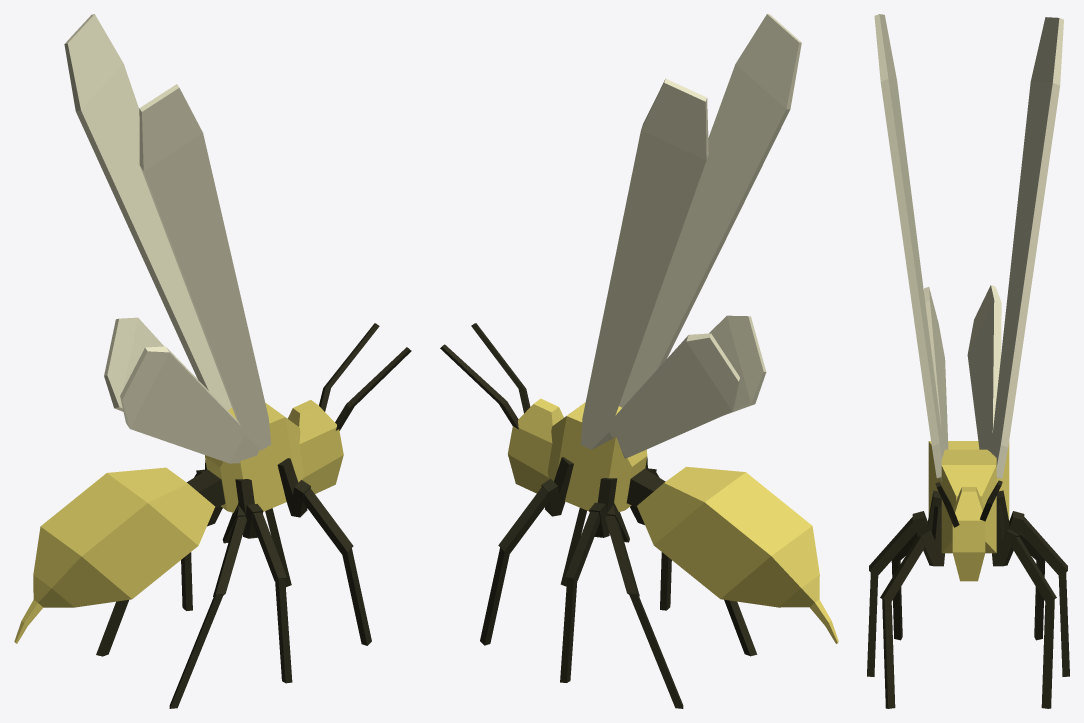
The model's file is WaspTextureglb.glb.
The picture shows the model from 3 angles, left to right: view 1: azimuth 30°, elevation 25°; view 2: azimuth 150°, elevation 25°; view 3: azimuth 270°, elevation 25°; orthographic projection. The views are drawn at different scales.
Visible parts, largest first — view 1: Cube.008, Cube.002, Cube.010, Cube, Cube.001, Cube.014, Cube.016, Cube.015, Cube.012, Cube.004, Cube.003, Cube.005 (+1 smaller); view 2: Cube.010, Cube.008, Cube.002, Cube, Cube.001, Cube.013, Cube.011, Cube.012, Cube.005, Cube.015, Cube.003, Cube.004 (+1 smaller); view 3: Cube.010, Cube.008, Cube, Cube.014, Cube.013, Cube.001, Cube.016, Cube.011, Cube.002, Cube.012, Cube.015.
Part boxes in pixels (x1,y1,x2,y2): Cube.008: (120, 84, 271, 463); Cube.002: (14, 467, 215, 643); Cube.010: (64, 14, 231, 411); Cube: (205, 403, 303, 512); Cube.001: (287, 400, 343, 493); Cube.014: (277, 458, 371, 645); Cube.016: (235, 479, 292, 683); Cube.015: (169, 503, 246, 708); Cube.012: (96, 506, 222, 656); Cube.004: (335, 347, 411, 430); Cube.003: (187, 469, 225, 508); Cube.005: (319, 323, 379, 411); Cube.010: (580, 78, 739, 458); Cube.008: (619, 14, 801, 414); Cube.002: (637, 466, 838, 643); Cube: (547, 402, 647, 511); Cube.001: (508, 398, 563, 493); Cube.013: (480, 457, 573, 645); Cube.011: (560, 478, 617, 682); Cube.012: (605, 503, 683, 708); Cube.005: (440, 344, 518, 429); Cube.015: (630, 505, 757, 656); Cube.003: (626, 468, 665, 507); Cube.004: (471, 323, 530, 413); Cube.010: (967, 17, 1063, 478); Cube.008: (874, 14, 948, 481); Cube: (941, 449, 996, 553); Cube.014: (880, 506, 944, 708); Cube.013: (992, 506, 1056, 708); Cube.001: (952, 487, 985, 581); Cube.016: (867, 490, 941, 676); Cube.011: (996, 490, 1069, 676); Cube.002: (928, 441, 1009, 520); Cube.012: (1019, 532, 1045, 640); Cube.015: (891, 532, 917, 640).
Bounding box in the file's own units: 10.69 × 16.98 × 5.02.
